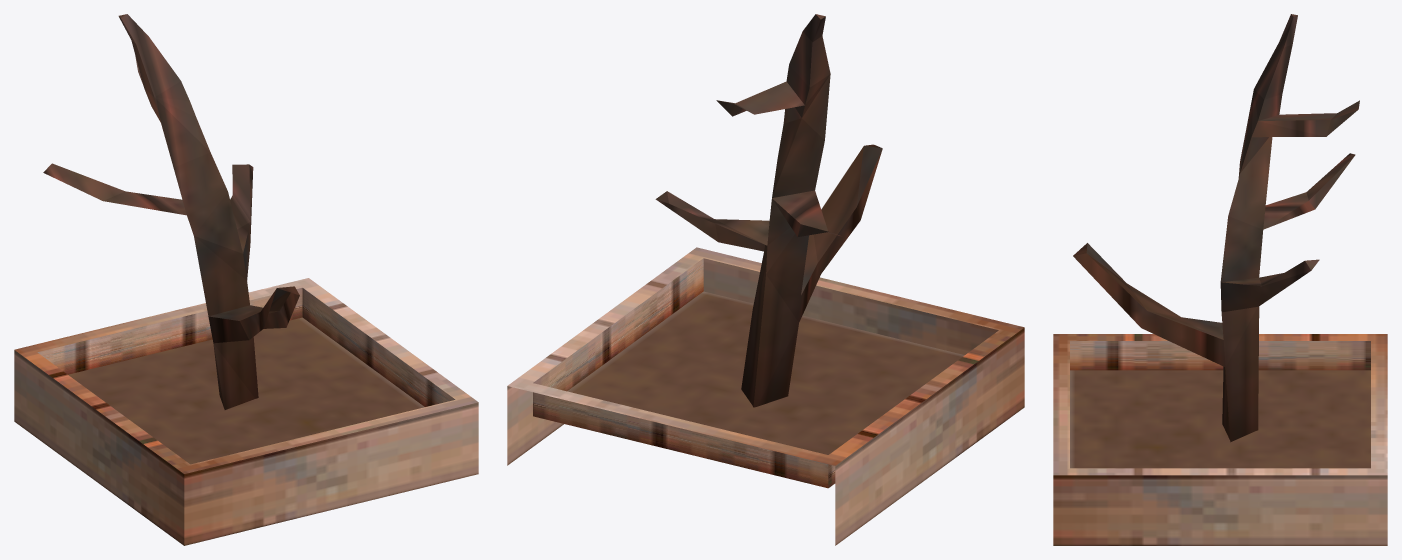
The model's file is AppleSpawner.fbx.
3 renders of one model, left to right at view 1: azimuth 30°, elevation 25°; view 2: azimuth 150°, elevation 25°; view 3: azimuth 270°, elevation 25°, orthographic. The views are drawn at different scales.
Parts seen in each view (by area): view 1: Tree; view 2: Tree; view 3: Tree.
Part boxes in pixels (left/top/right/bottom): Tree: left=14, top=14, right=478, bottom=545; Tree: left=507, top=14, right=1024, bottom=545; Tree: left=1053, top=14, right=1387, bottom=545.
Size of the model in its own units: 200 by 277 by 200.
